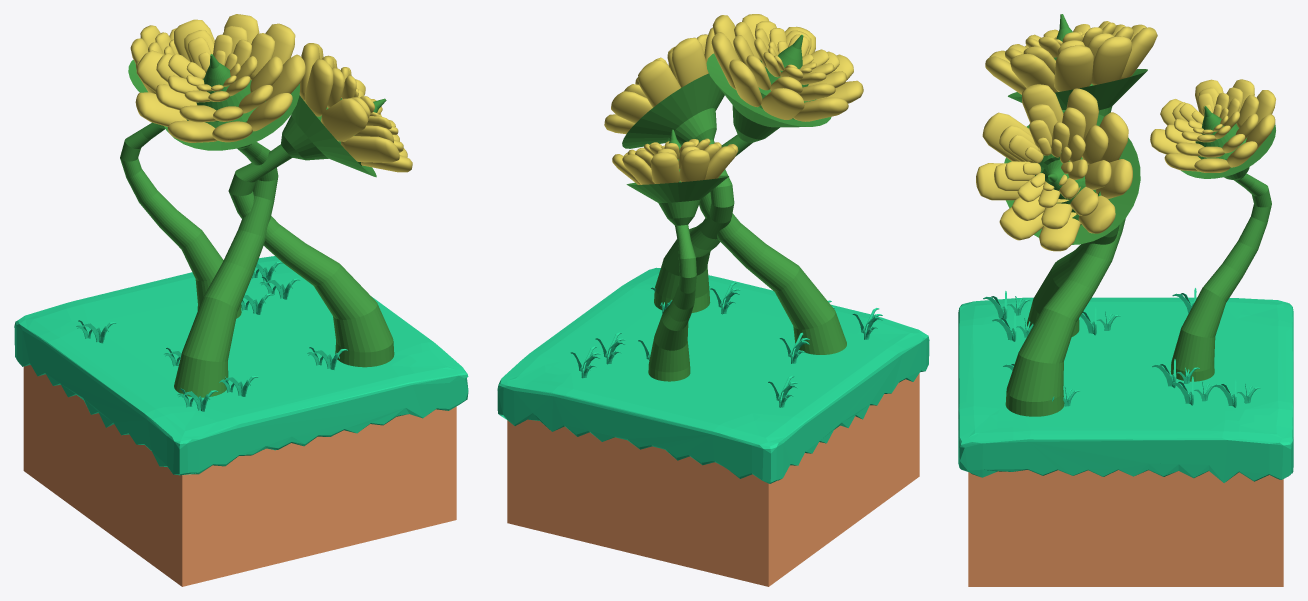
The model's file is floweratday.fbx.
3 renders of one model, left to right at view 1: azimuth 30°, elevation 25°; view 2: azimuth 150°, elevation 25°; view 3: azimuth 270°, elevation 25°, orthographic. The views are drawn at different scales.
Visible parts, largest first — view 1: Cube.022, Cube.021, Cylinder.006, Cylinder.003, Cylinder.001, Cylinder.004, Cylinder.005, Cylinder.007; view 2: Cube.022, Cube.021, Cylinder.006, Cylinder.001, Cylinder.003, Cylinder.005, Cylinder.004, Cylinder.007; view 3: Cube.022, Cube.021, Cylinder.004, Cylinder.003, Cylinder.006, Cylinder.007, Cylinder.005, Cylinder.001.
Part boxes in pixels (bbox=[...]): Cube.022: bbox=[14, 256, 468, 475]; Cube.021: bbox=[23, 365, 456, 586]; Cylinder.006: bbox=[135, 14, 305, 142]; Cylinder.003: bbox=[228, 95, 394, 367]; Cylinder.001: bbox=[164, 54, 299, 397]; Cylinder.004: bbox=[299, 43, 412, 172]; Cylinder.005: bbox=[120, 60, 241, 318]; Cylinder.007: bbox=[130, 25, 178, 93]; Cube.022: bbox=[497, 267, 929, 483]; Cube.021: bbox=[507, 373, 919, 586]; Cylinder.006: bbox=[711, 14, 863, 121]; Cylinder.001: bbox=[699, 34, 846, 354]; Cylinder.003: bbox=[622, 73, 734, 312]; Cylinder.005: bbox=[626, 129, 728, 381]; Cylinder.004: bbox=[604, 27, 714, 134]; Cylinder.007: bbox=[612, 138, 738, 184]; Cube.022: bbox=[958, 297, 1293, 482]; Cube.021: bbox=[968, 470, 1283, 586]; Cylinder.004: bbox=[976, 84, 1132, 251]; Cylinder.003: bbox=[1004, 110, 1140, 416]; Cylinder.006: bbox=[985, 21, 1157, 94]; Cylinder.007: bbox=[1150, 79, 1275, 172]; Cylinder.005: bbox=[1170, 106, 1275, 381]; Cylinder.001: bbox=[1008, 14, 1147, 336].
Bounding box in the file's own units: 426 × 675 × 426.
